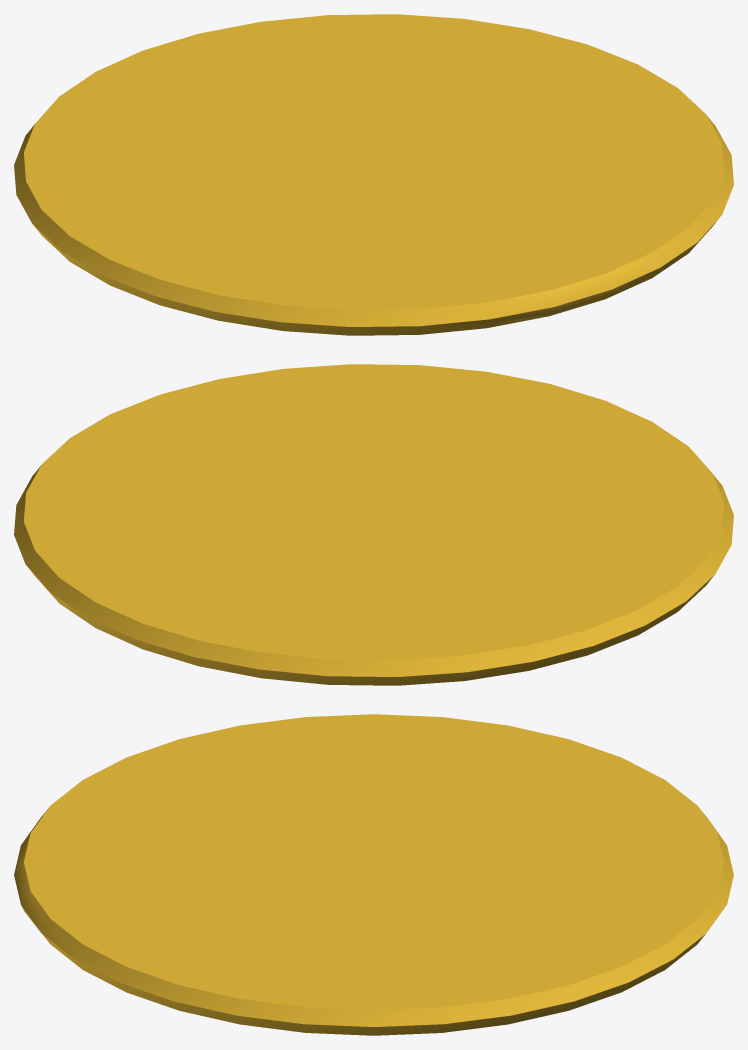
Rendered from laser.fbx.
The picture shows the model from 3 angles, top to bottom: view 1: azimuth 30°, elevation 25°; view 2: azimuth 150°, elevation 25°; view 3: azimuth 270°, elevation 25°; orthographic projection.
Visible parts, largest first — view 1: Laser; view 2: Laser; view 3: Laser.
Part boxes in pixels (bbox=[...]): Laser: bbox=[14, 14, 733, 335]; Laser: bbox=[14, 364, 733, 685]; Laser: bbox=[14, 714, 733, 1035].
Size of the model in its own units: 206 by 8.07 by 206.
